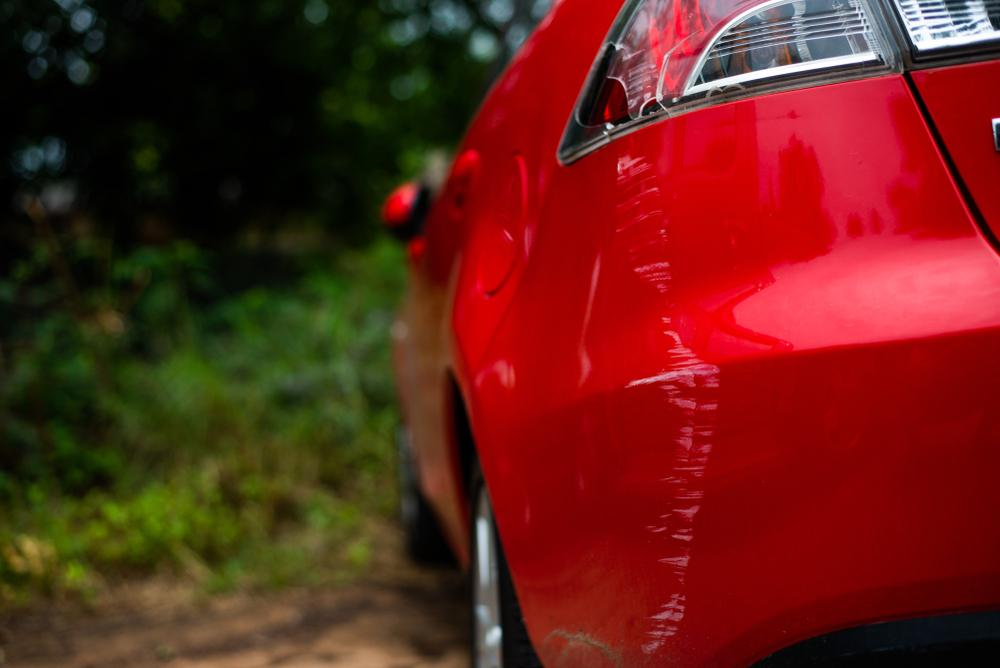lamp broken: (560, 0, 907, 160)
scratch: (609, 150, 727, 661)
